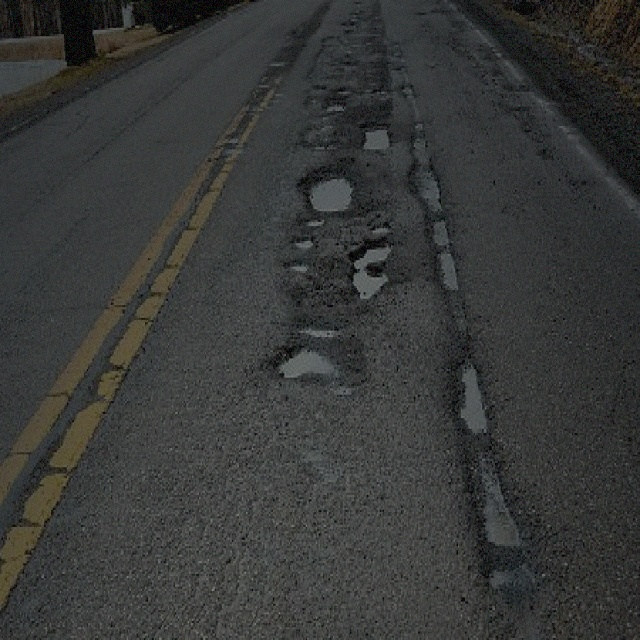pothole: (468, 452, 523, 548), (346, 237, 392, 301), (300, 160, 354, 211), (454, 361, 489, 433), (270, 342, 334, 376), (406, 158, 444, 209), (432, 245, 461, 290), (360, 120, 391, 154), (294, 320, 340, 339), (290, 232, 316, 252), (324, 98, 347, 113), (284, 258, 310, 271), (304, 214, 323, 228)
